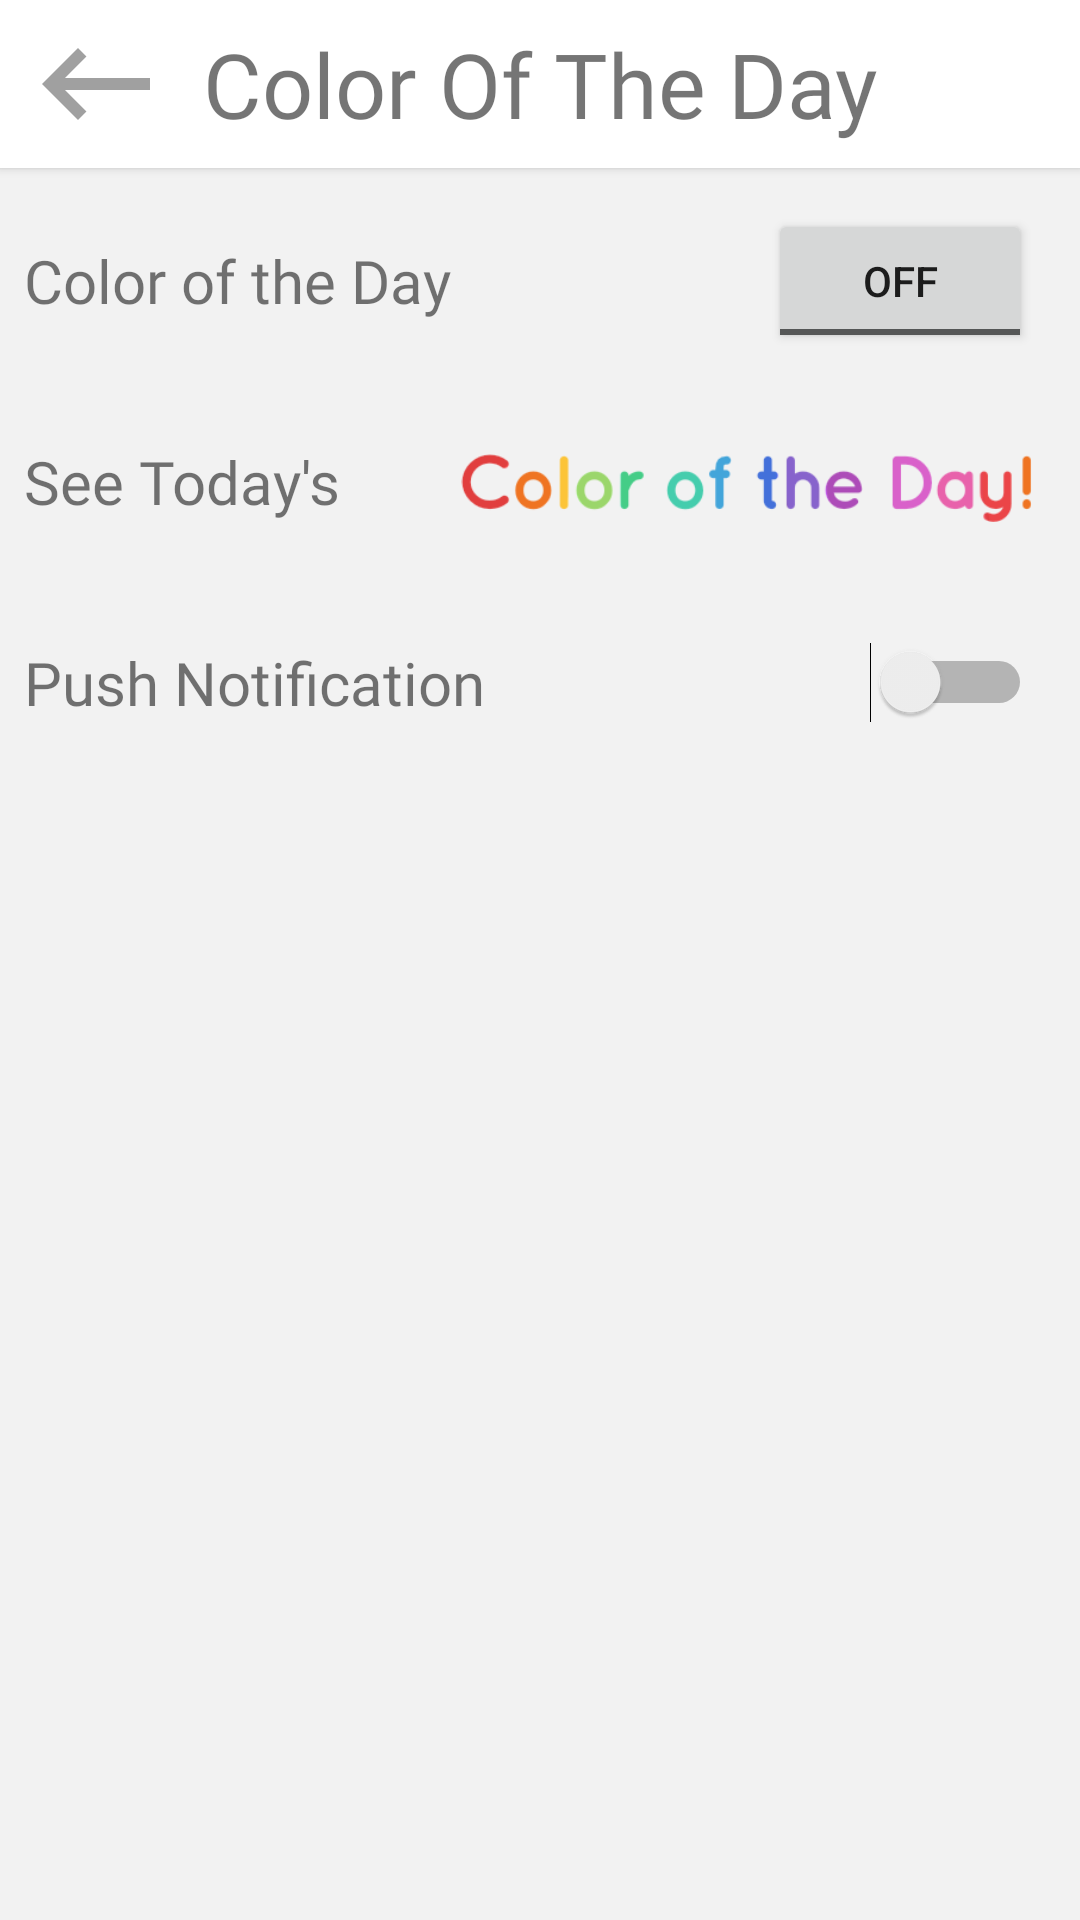

Screen size 1080 x 1920. Icon name, then its box in pixels as (x1, y1, x2, y2):
keyboard backspace: (42, 48, 150, 120)
